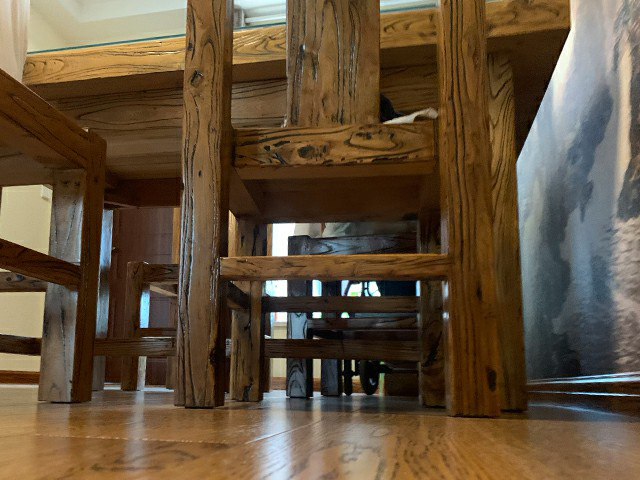stool: (175, 1, 498, 419), (1, 69, 105, 405)
table: (23, 1, 574, 415)
